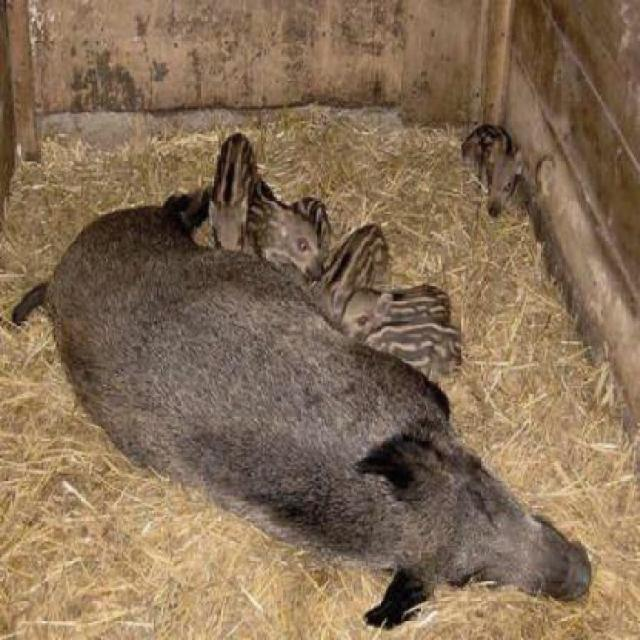Boar: (86, 181, 608, 617), (178, 122, 257, 280), (338, 277, 460, 335), (249, 192, 320, 280)
